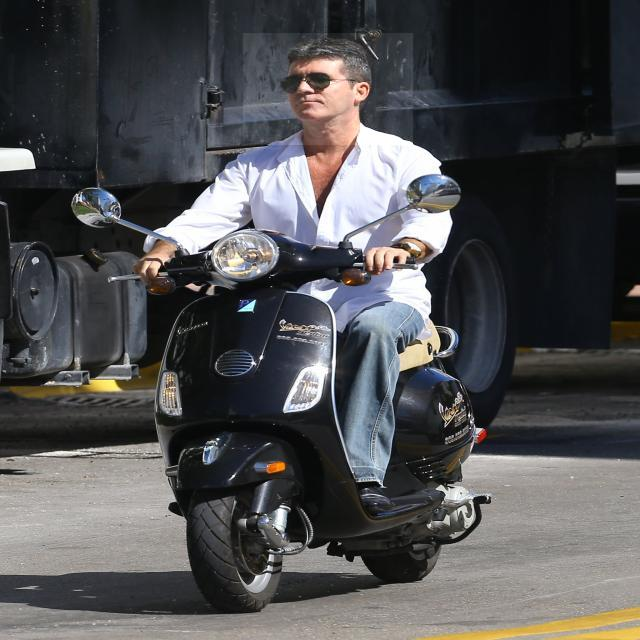No_Helmet: (243, 34, 413, 146)
